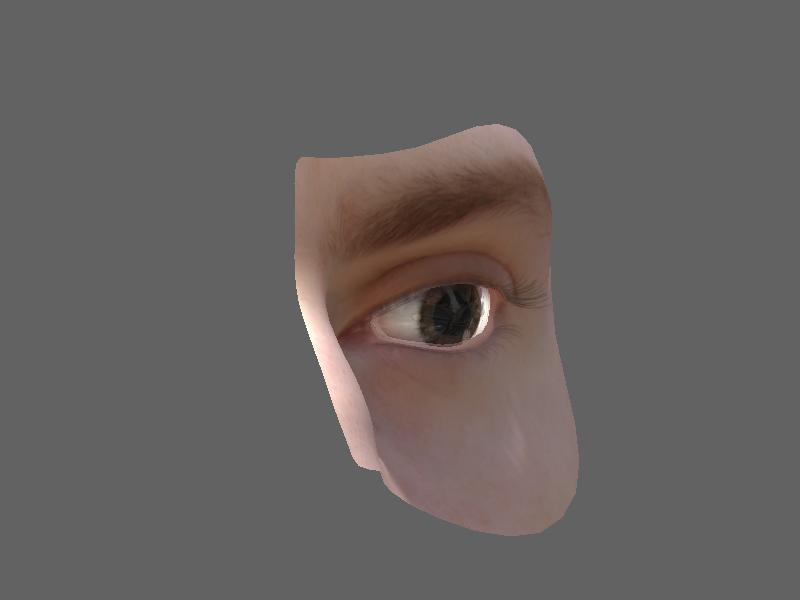iris: (422, 285, 485, 344)
